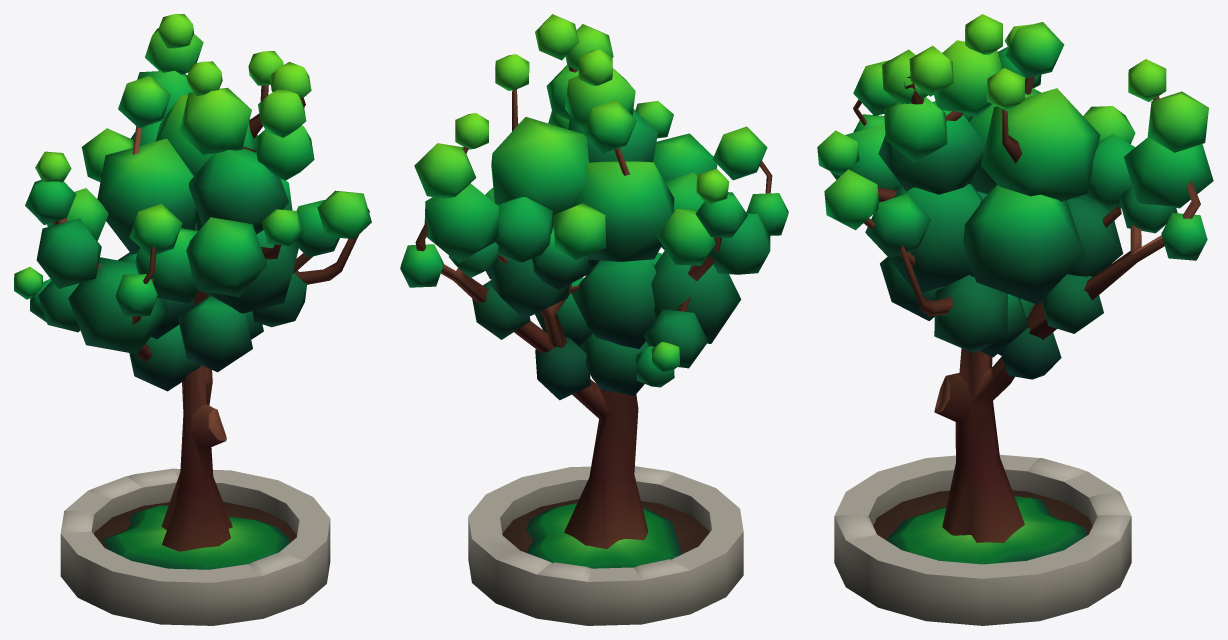
Rendered from Tree_1D.fbx.
3 views of the same model, side by side, from view 1: azimuth 30°, elevation 25°; view 2: azimuth 150°, elevation 25°; view 3: azimuth 270°, elevation 25° (orthographic). The views are drawn at different scales.
Visible parts, largest first — view 1: Tree_1D; view 2: Tree_1D; view 3: Tree_1D.
Boxes of the visible parts, bbox=[...] form: Tree_1D: bbox=[14, 14, 371, 625]; Tree_1D: bbox=[400, 14, 788, 625]; Tree_1D: bbox=[817, 14, 1213, 625].
Size of the model in its own units: 5.04 by 8.21 by 5.34.
